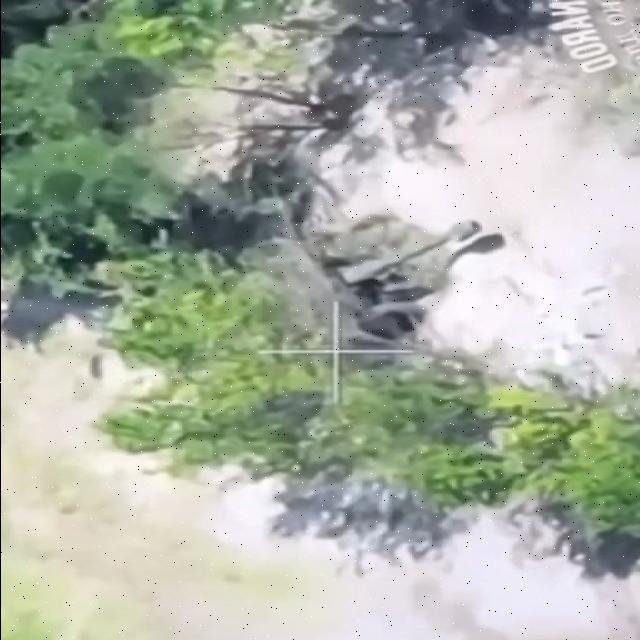ART: (294, 216, 484, 344)
